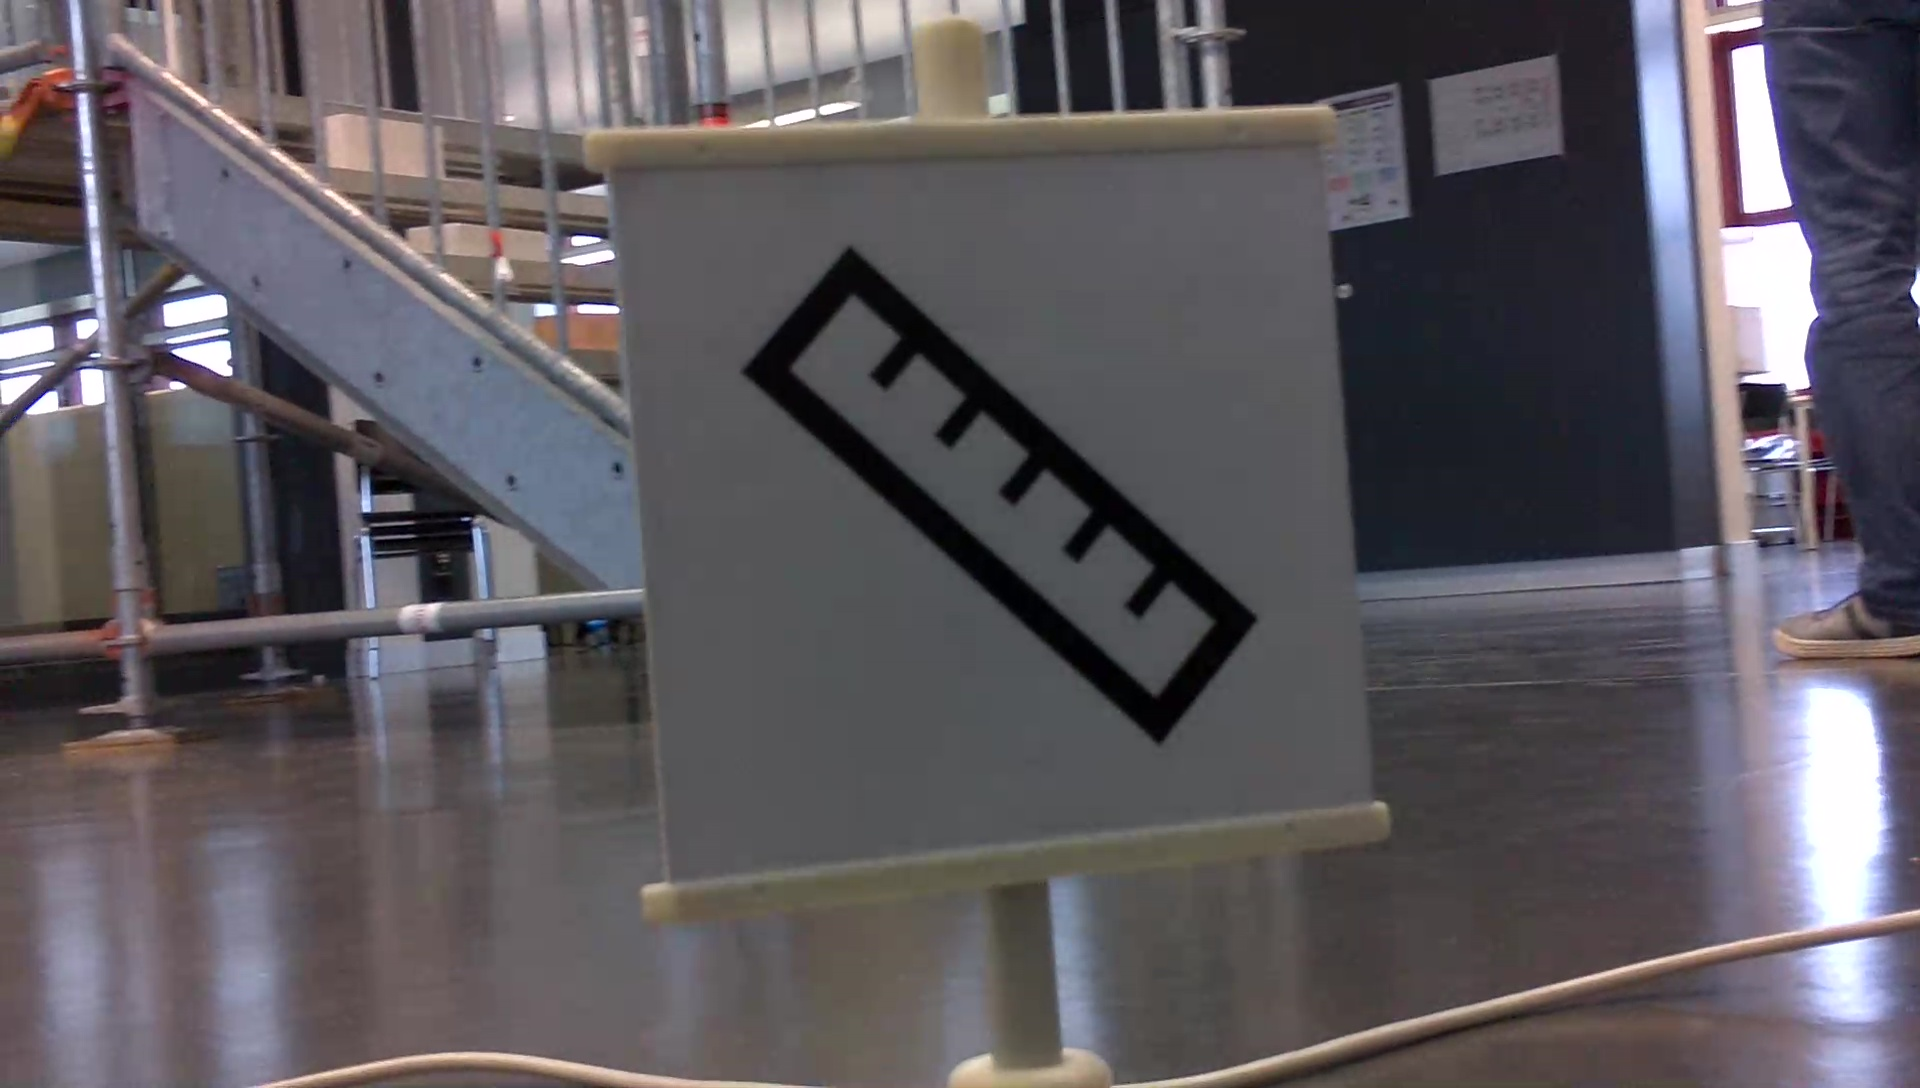ruler: (733, 237, 1258, 758)
